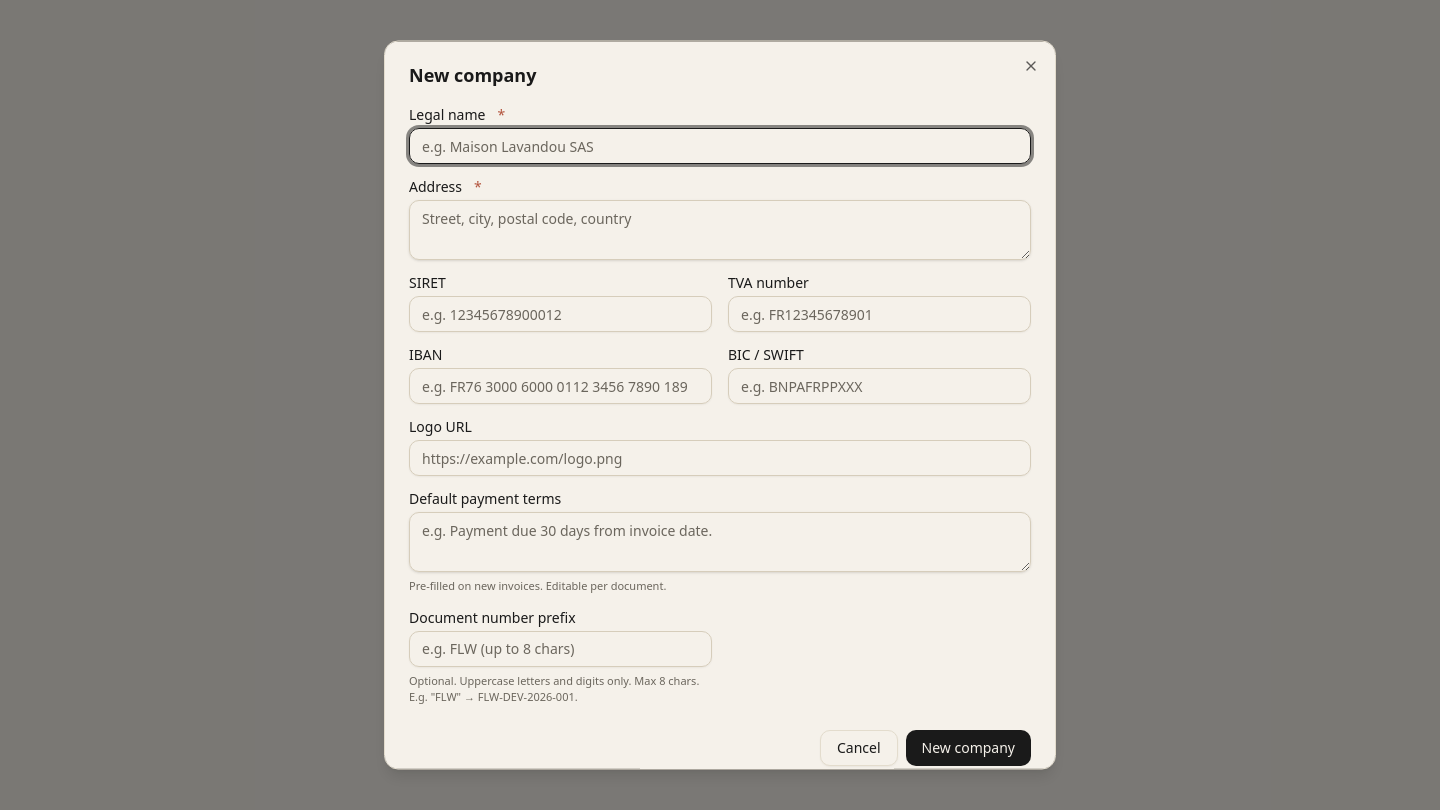
Test case: test_company_create_dialog_validates_logo_url › invalid URL (not parseable) is rejected client-side with invalid URL message
The width and height of the screenshot is (1440, 810).
Type "ACME Corp" into the field labelled "Legal name *".
click(720, 146); type("ACME Corp")  # box [409,128,1031,164]
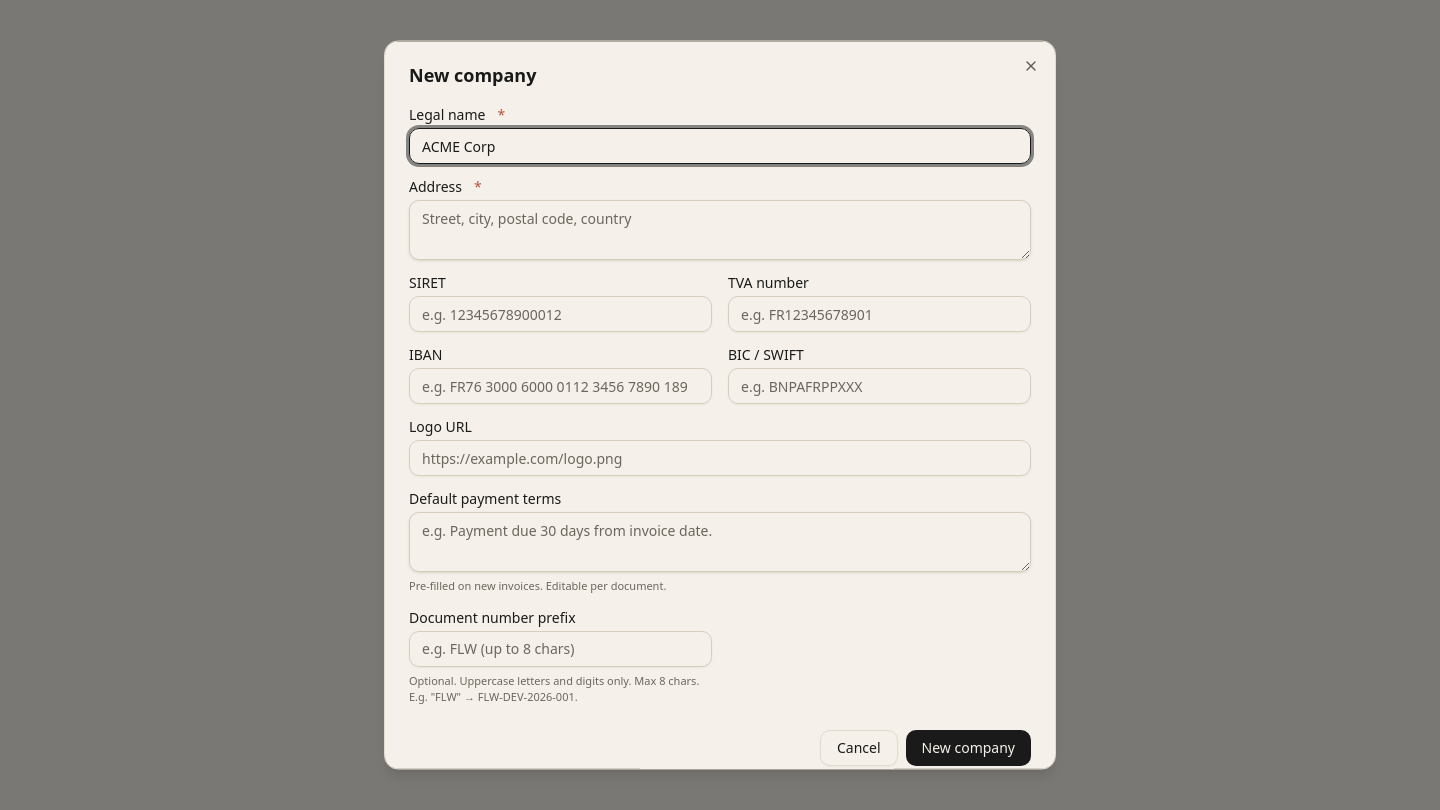
Type "Paris" into the text box labelled "Address *".
click(720, 230); type("Paris")  # box [409,200,1031,260]
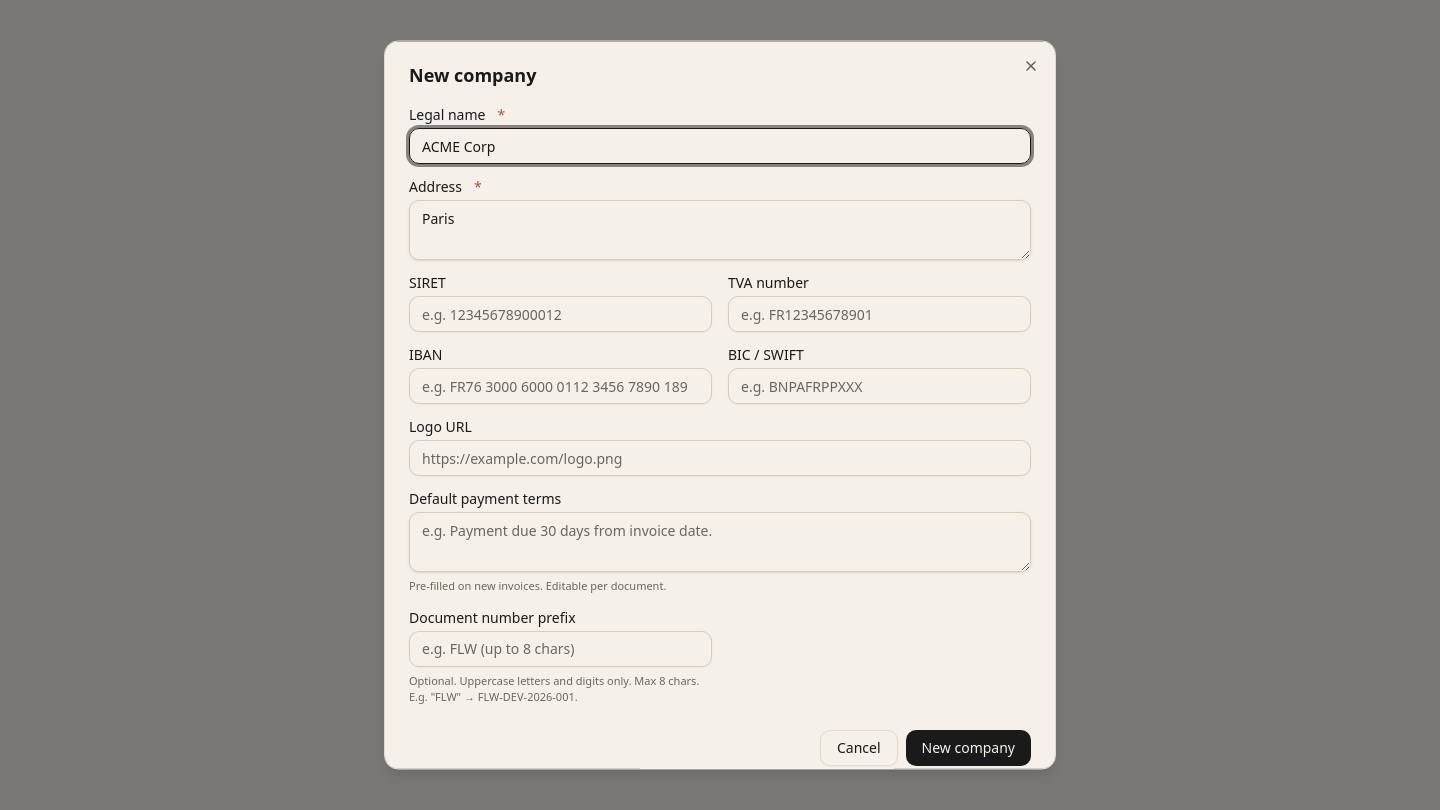
Type "not a url at all !!!" into the field labelled "Logo URL".
click(720, 458); type("not a url at all !!!")  # box [409,440,1031,476]
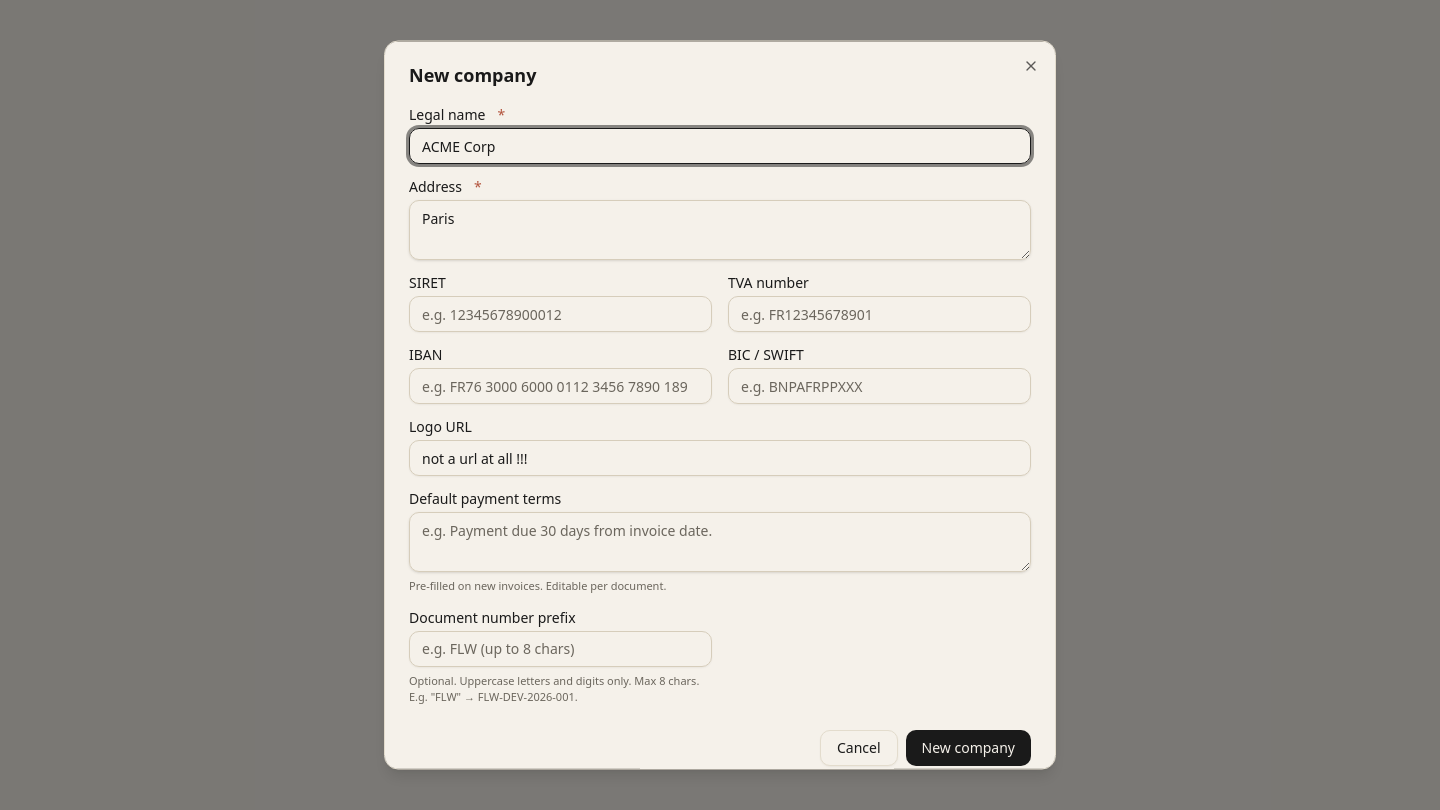
Submit the form labelled "Logo", box [409,100,1031,773]
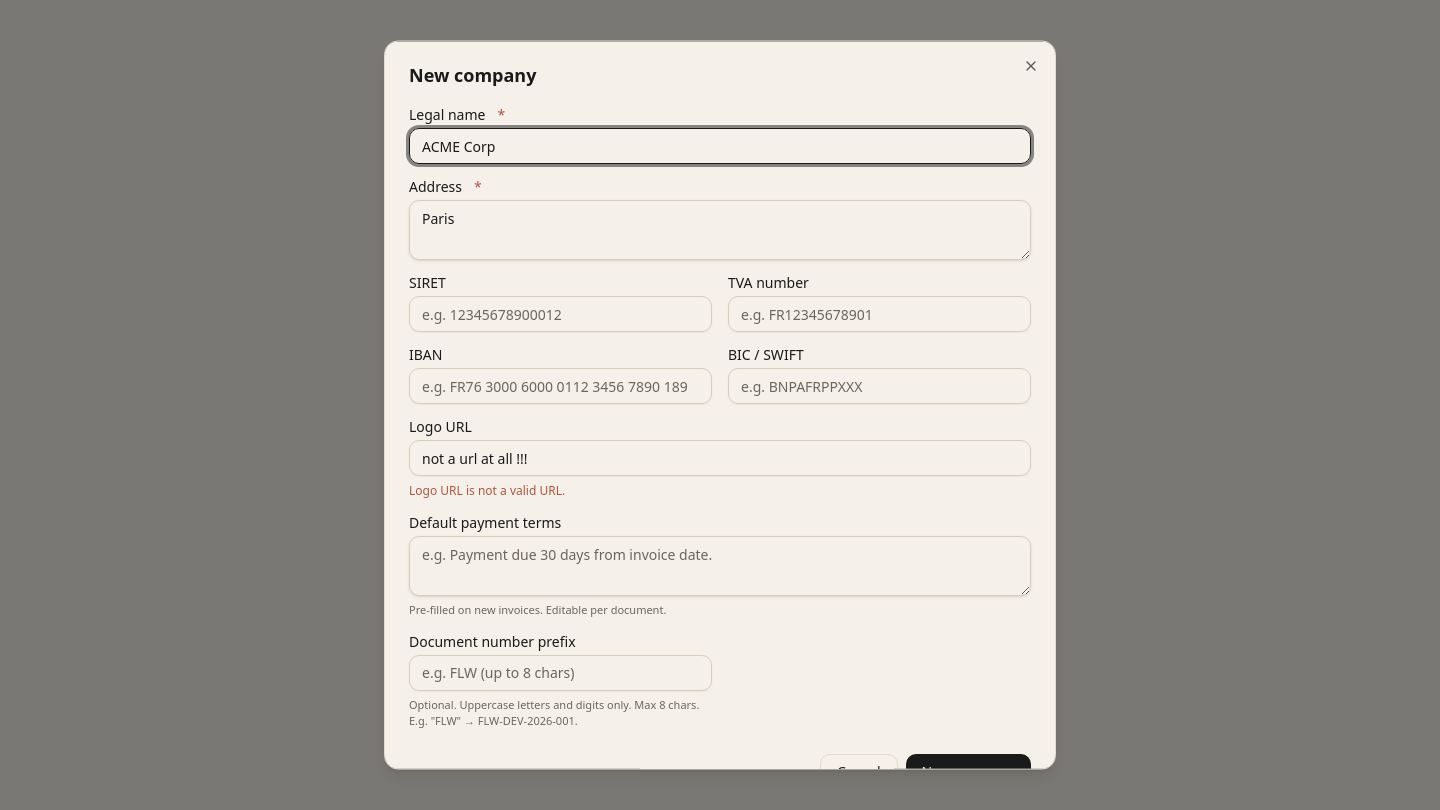
Check: the text "Logo URL is not a valid URL." is shown, box [409,482,565,498]
